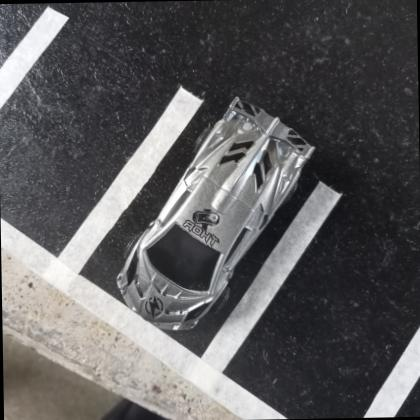Car: (115, 94, 315, 333)
